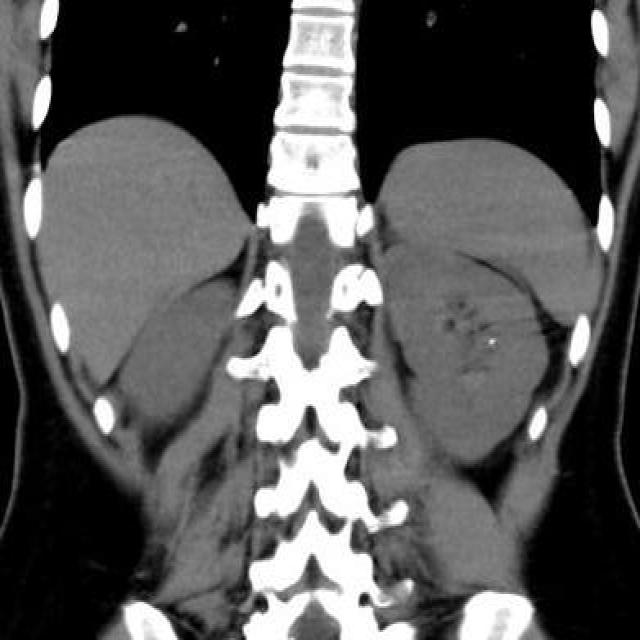Tas_Var: (484, 336, 498, 350)
